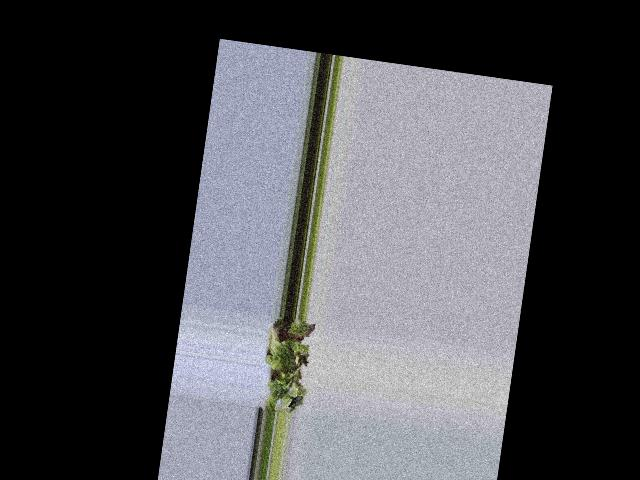lettuce: (265, 319, 311, 410)
